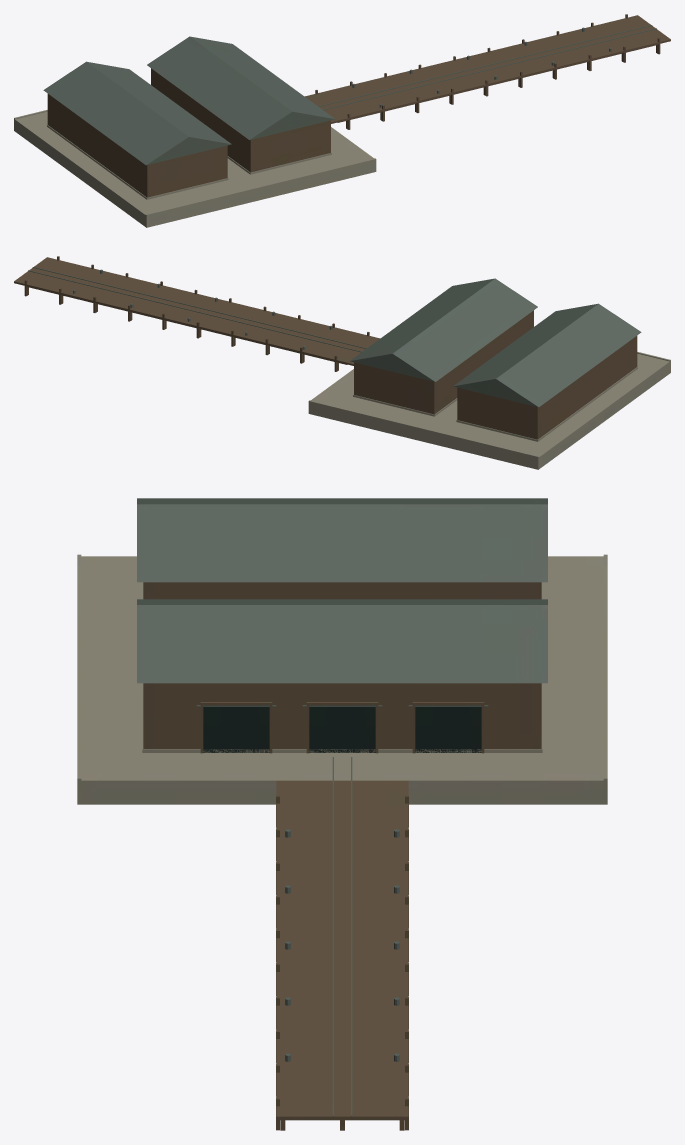
Rendered from pier-and-warehouses.glb.
3 views of the same model, one above another, from view 1: azimuth 30°, elevation 25°; view 2: azimuth 150°, elevation 25°; view 3: azimuth 270°, elevation 25° (orthographic). The views are drawn at different scales.
Parts seen in each view (by area): view 1: pier-and-warehouses_concrete; view 2: pier-and-warehouses_concrete; view 3: pier-and-warehouses_concrete.
Part boxes in pixels (left/top/right/bottom): pier-and-warehouses_concrete: left=14, top=14, right=670, bottom=227; pier-and-warehouses_concrete: left=14, top=256, right=670, bottom=469; pier-and-warehouses_concrete: left=77, top=498, right=607, bottom=1130.
Size of the model in its own units: 100 by 11 by 40.
Materials: 1 (1 with a texture image).
